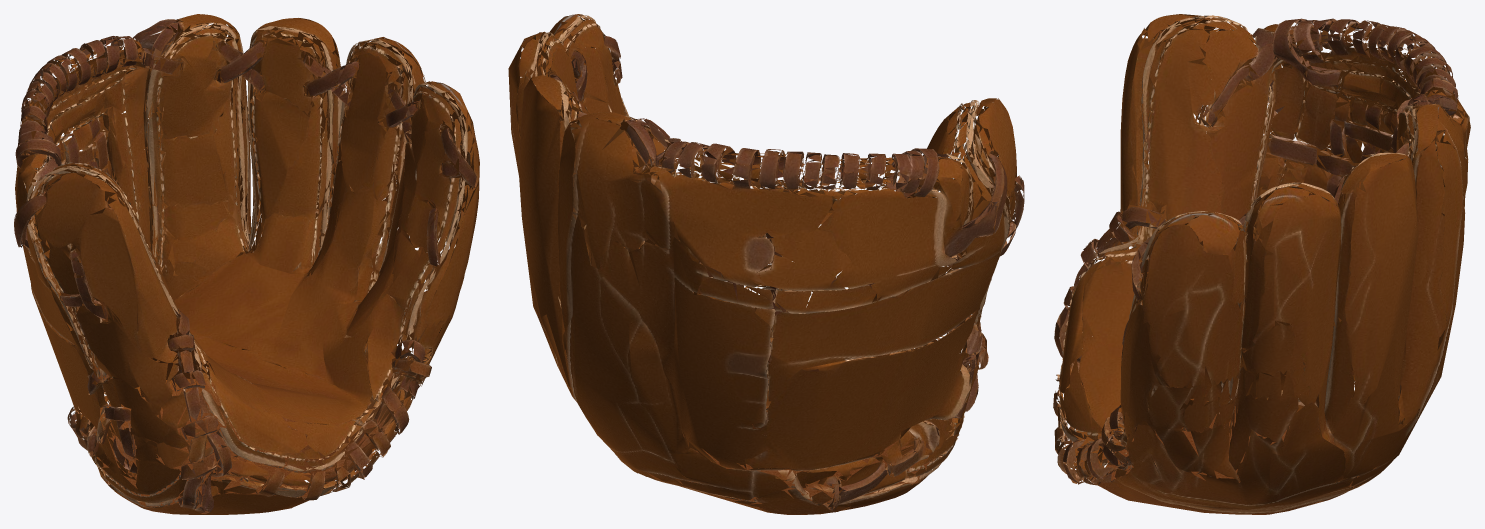
The model's file is glove.glb.
The picture shows the model from 3 angles, left to right: view 1: azimuth 30°, elevation 25°; view 2: azimuth 150°, elevation 25°; view 3: azimuth 270°, elevation 25°; orthographic projection. The views are drawn at different scales.
Visible parts, largest first — view 1: glove; view 2: glove; view 3: glove.
Boxes of the visible parts, <box> form: glove: <box>14,14,479,514</box>; glove: <box>508,14,1024,514</box>; glove: <box>1053,14,1470,514</box>.
Bounding box in the file's own units: 1 × 0.8316 × 0.7818.
Materials: 1 (1 with a texture image).
